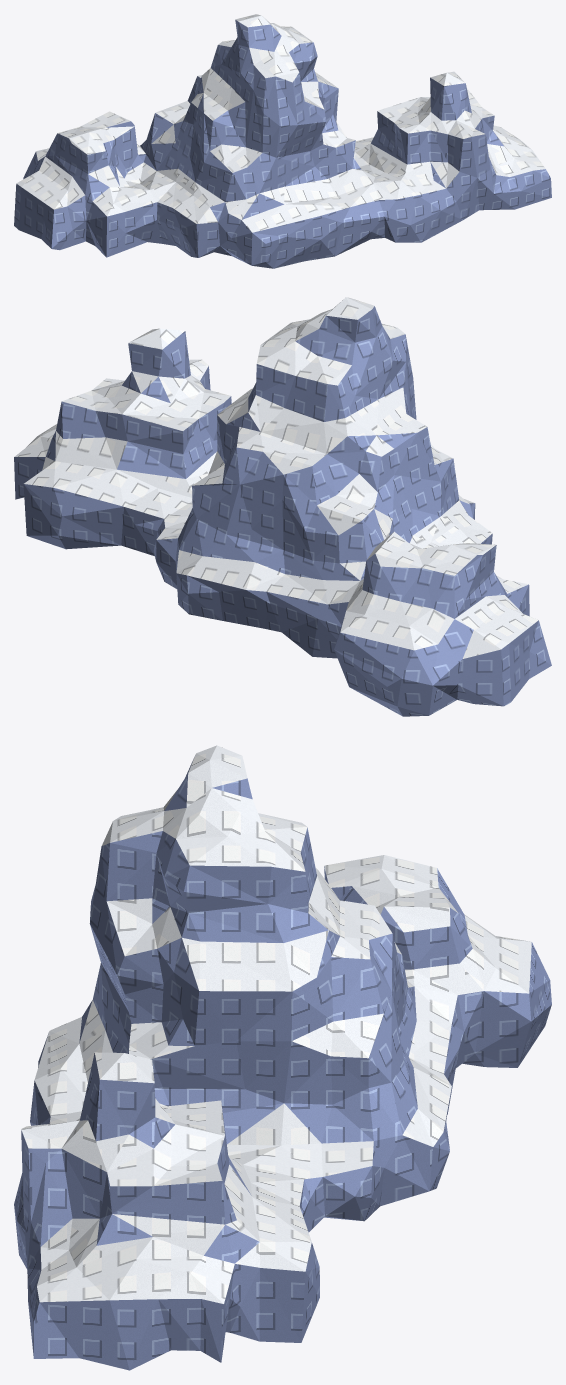
The model's file is IceRocks.glb.
3 views of the same model, one above another, from view 1: azimuth 30°, elevation 25°; view 2: azimuth 150°, elevation 25°; view 3: azimuth 270°, elevation 25° (orthographic). The views are drawn at different scales.
Parts seen in each view (by area): view 1: IceRocks_Rock, IceRocks_Top; view 2: IceRocks_Rock, IceRocks_Top; view 3: IceRocks_Rock, IceRocks_Top.
Part boxes in pixels (bbox=[...]): IceRocks_Rock: bbox=[14, 20, 551, 268]; IceRocks_Top: bbox=[16, 14, 545, 232]; IceRocks_Rock: bbox=[14, 306, 551, 716]; IceRocks_Top: bbox=[14, 297, 538, 658]; IceRocks_Rock: bbox=[14, 757, 551, 1370]; IceRocks_Top: bbox=[21, 745, 531, 1303].
Size of the model in its own units: 26.36 by 12.95 by 15.49.
Materials: 2 (2 with a texture image).
